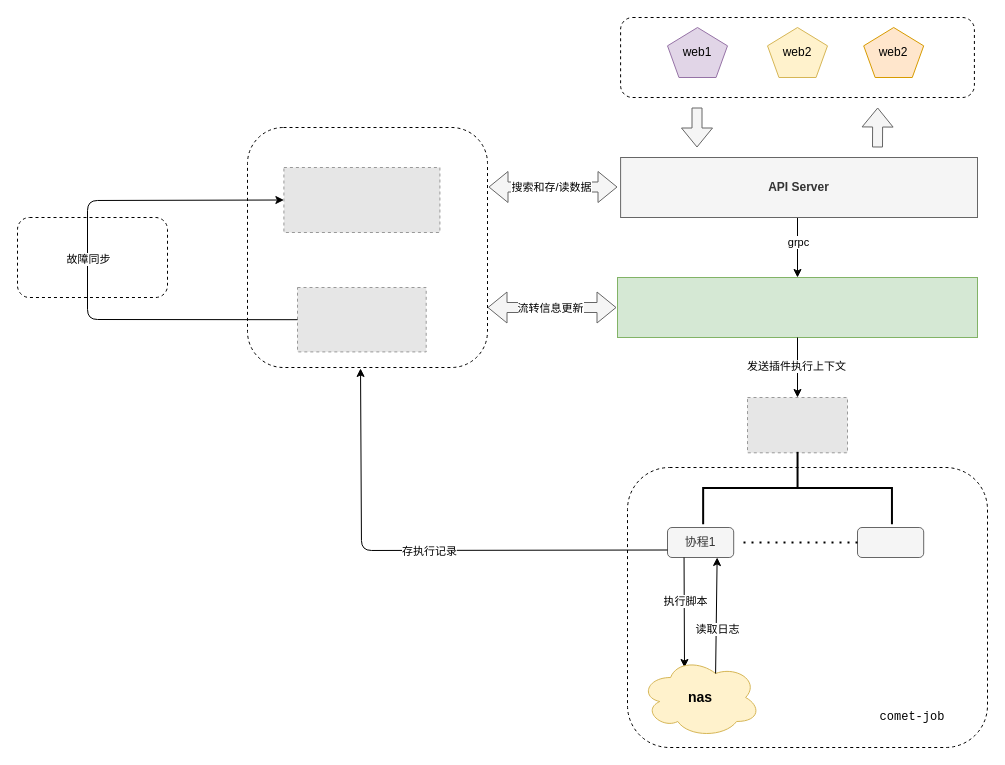
This 1005x765 diagram has some shape labels left out. Grey dashed boxes stand in for pictures. Each missing label, with the box of its shape:
comet-engine: (616, 276, 978, 338)
comet-syncer: (16, 216, 168, 298)
协程10: (856, 526, 924, 558)
